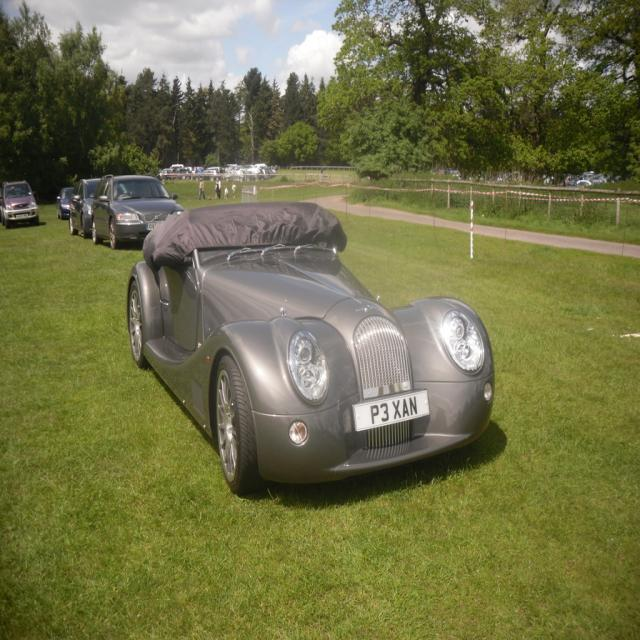car: (119, 203, 496, 496)
